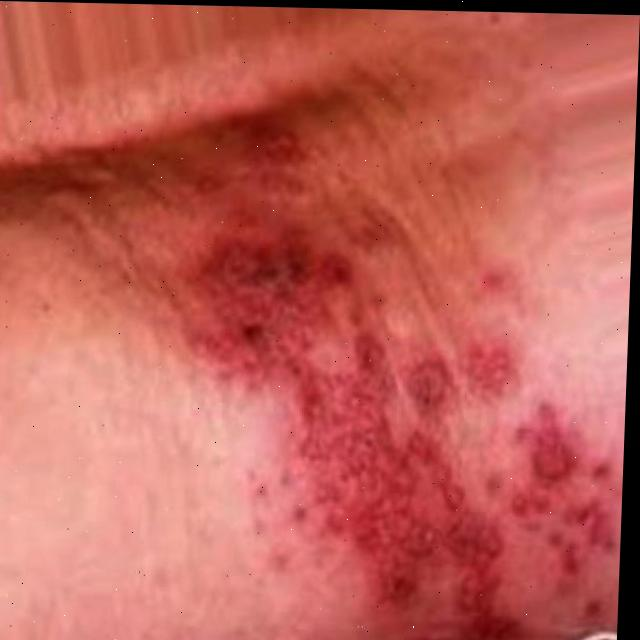Shingles: (195, 219, 608, 614)
